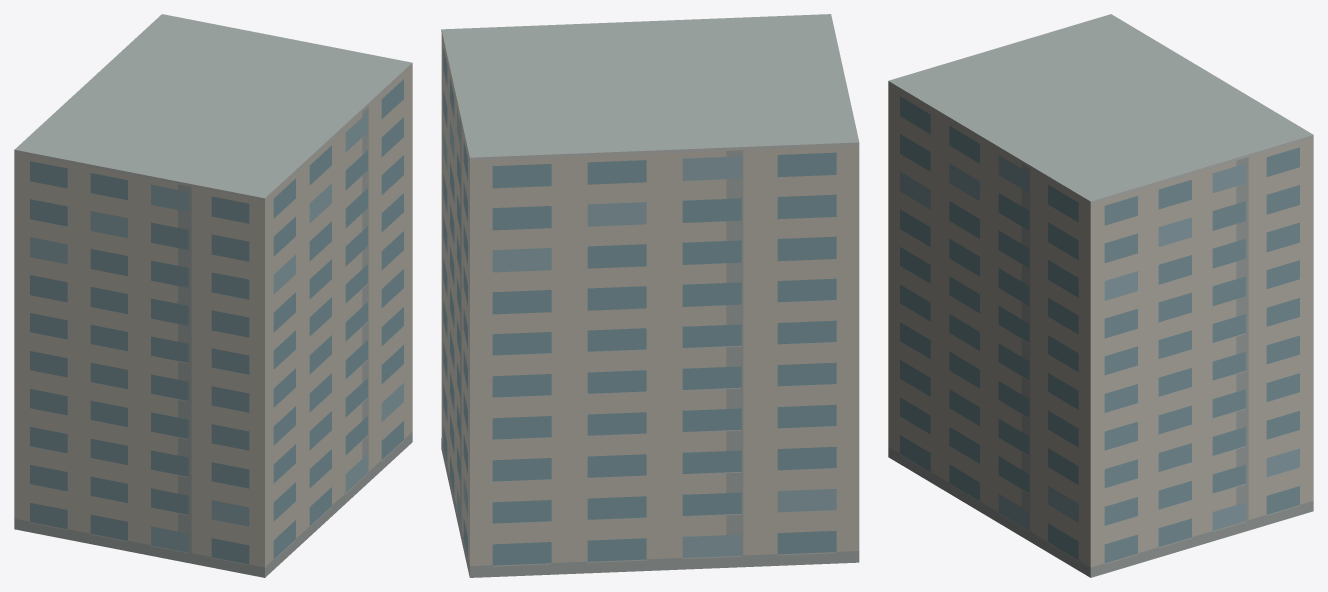
The model's file is residential-ed0f7a7d-3cfa-48ba-be9d-6e0d97e59e02.glb.
The picture shows the model from 3 angles, left to right: view 1: azimuth 30°, elevation 25°; view 2: azimuth 150°, elevation 25°; view 3: azimuth 270°, elevation 25°; orthographic projection. The views are drawn at different scales.
Visible parts, largest first — view 1: residential-ed0f7a7d-3cfa-48ba-be9d-6e0d97e59e02.tmp; view 2: residential-ed0f7a7d-3cfa-48ba-be9d-6e0d97e59e02.tmp; view 3: residential-ed0f7a7d-3cfa-48ba-be9d-6e0d97e59e02.tmp.
Boxes of the visible parts, left/top/right/bottom form: residential-ed0f7a7d-3cfa-48ba-be9d-6e0d97e59e02.tmp: left=14, top=14, right=412, bottom=577; residential-ed0f7a7d-3cfa-48ba-be9d-6e0d97e59e02.tmp: left=441, top=14, right=859, bottom=577; residential-ed0f7a7d-3cfa-48ba-be9d-6e0d97e59e02.tmp: left=888, top=14, right=1313, bottom=577.
Size of the model in its own units: 35.29 by 33 by 33.83.
